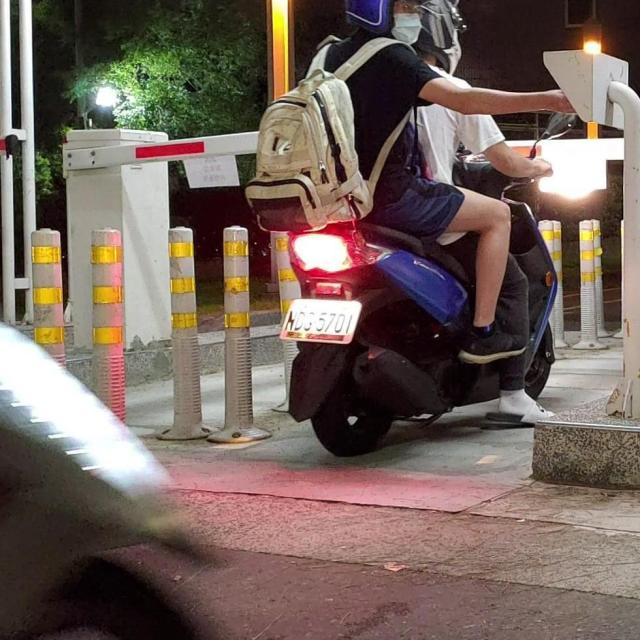W: (278, 297, 361, 345)
